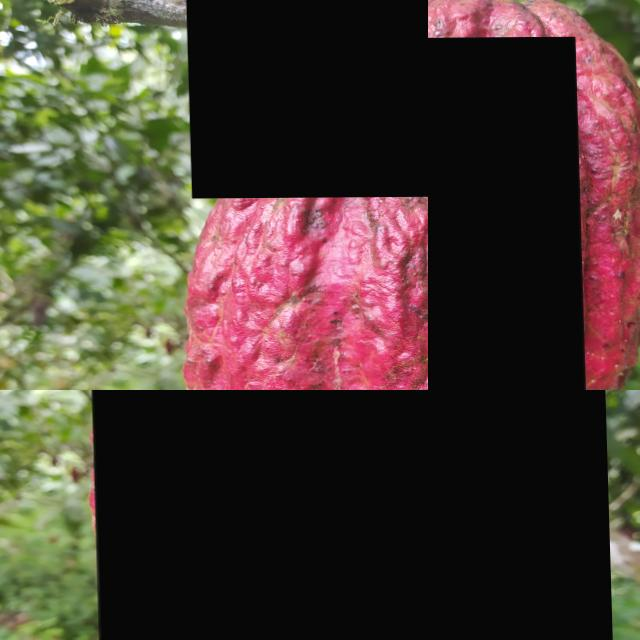Monilia: (428, 37, 583, 390)
Sana: (87, 390, 428, 640), (185, 0, 428, 198), (428, 390, 615, 640)
